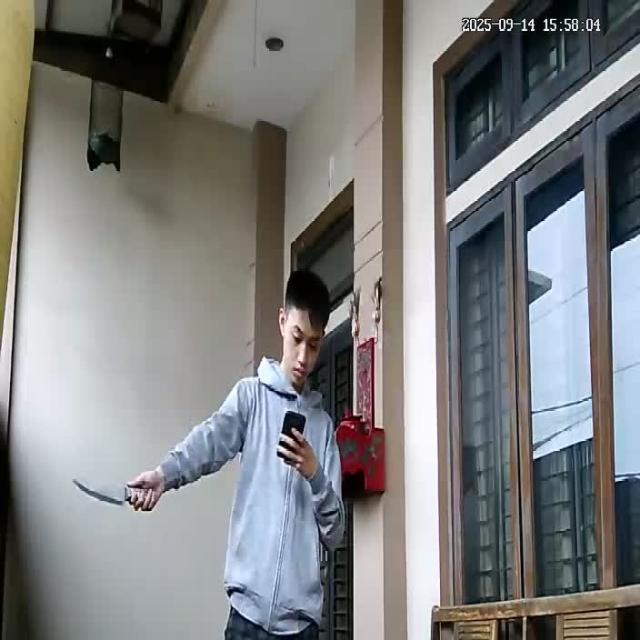senjata_tajam: (71, 475, 128, 508)
